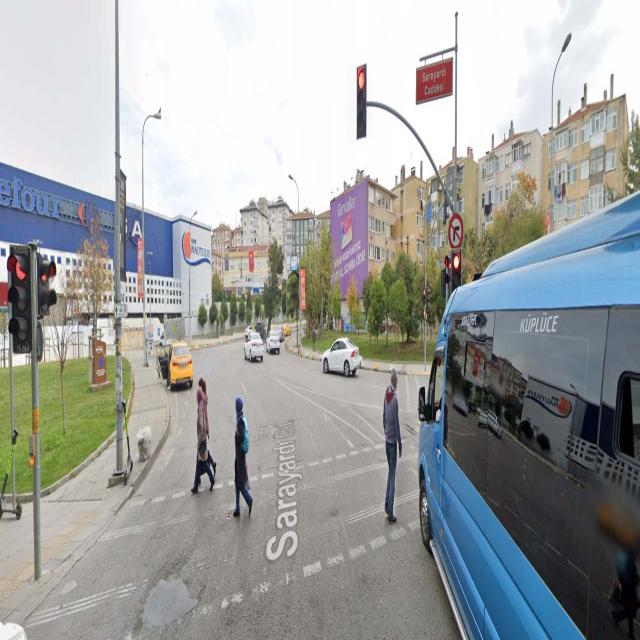kirmizi: (10, 244, 31, 357), (356, 64, 367, 138), (452, 249, 462, 318)
sagadonulmez: (449, 213, 464, 252)
